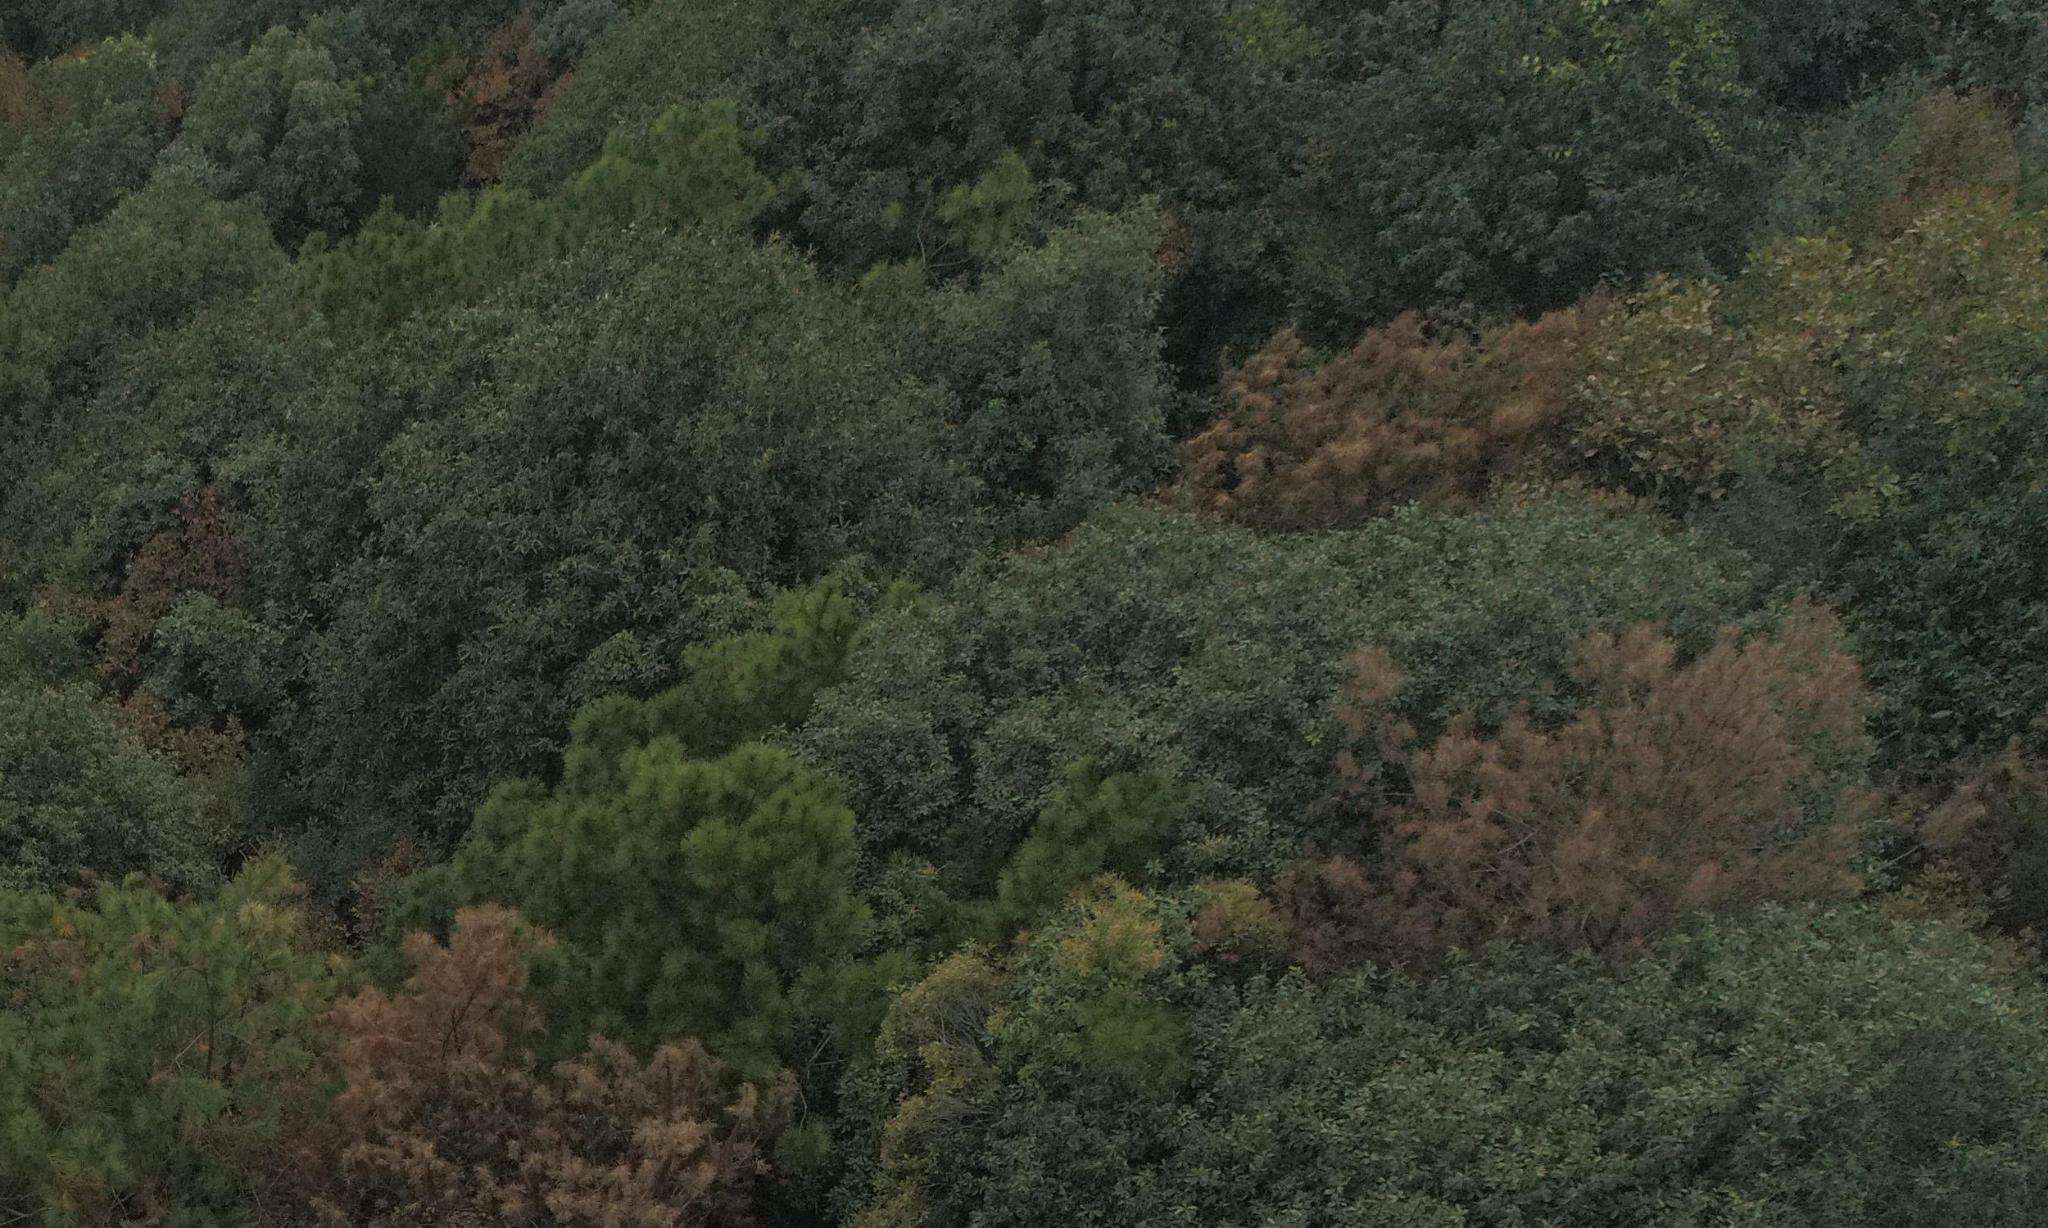heavy: (1316, 655, 1899, 928), (314, 912, 753, 1224), (1162, 307, 1611, 497)
